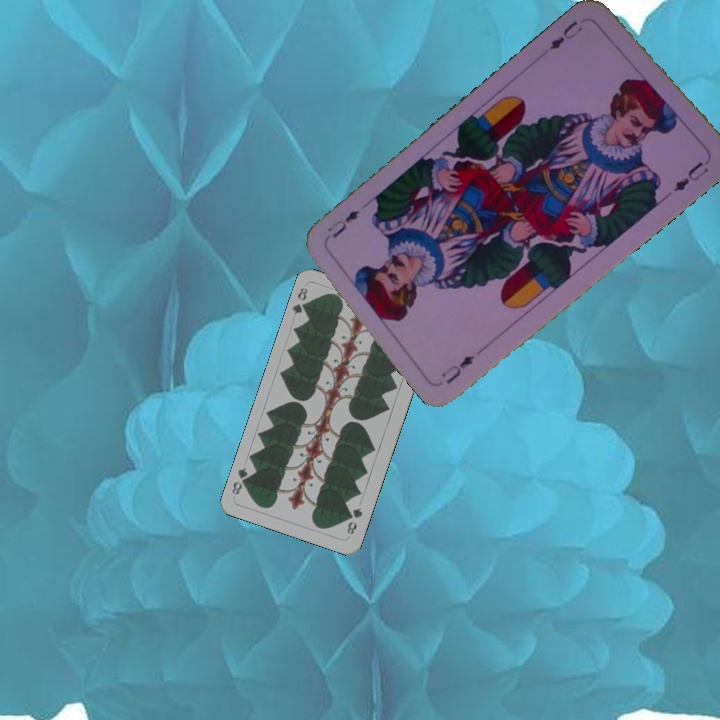EU: (545, 17, 585, 53), (437, 351, 477, 387)
G8: (289, 283, 312, 317), (343, 503, 365, 537)
